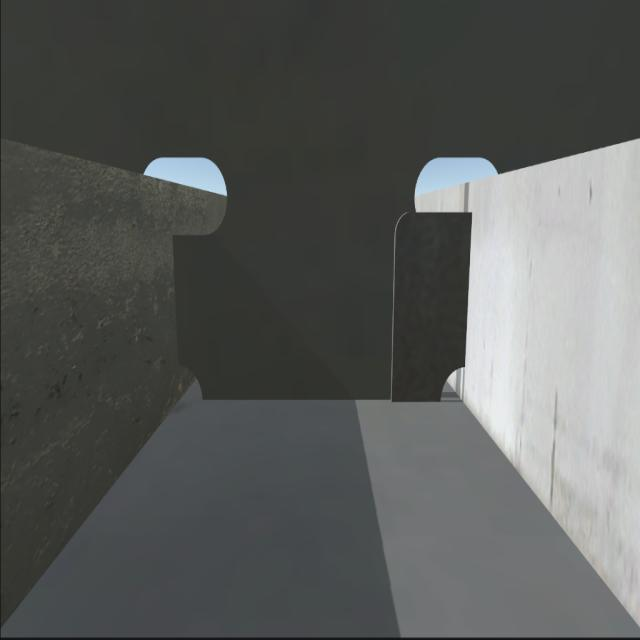fillet_hole: (176, 358, 205, 405), (440, 358, 467, 398)
fillet_yong_jeop_jang: (208, 399, 446, 409)
longi_yong_jeop_jang: (462, 213, 470, 368), (171, 238, 181, 355)
plate_CP05: (391, 215, 472, 400)
